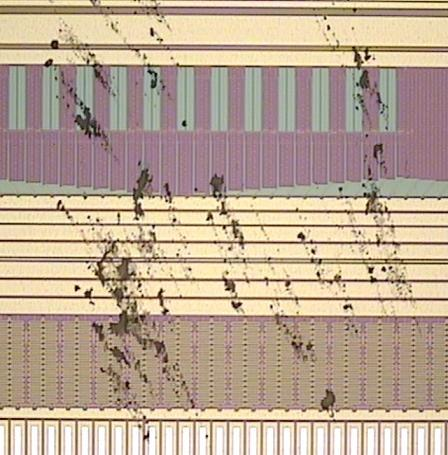SCRATCH: (44, 1, 427, 446)
